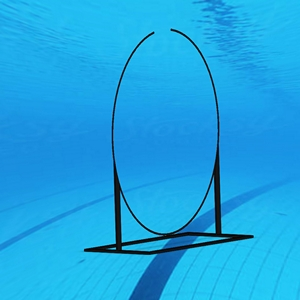circle: (81, 26, 257, 259)
